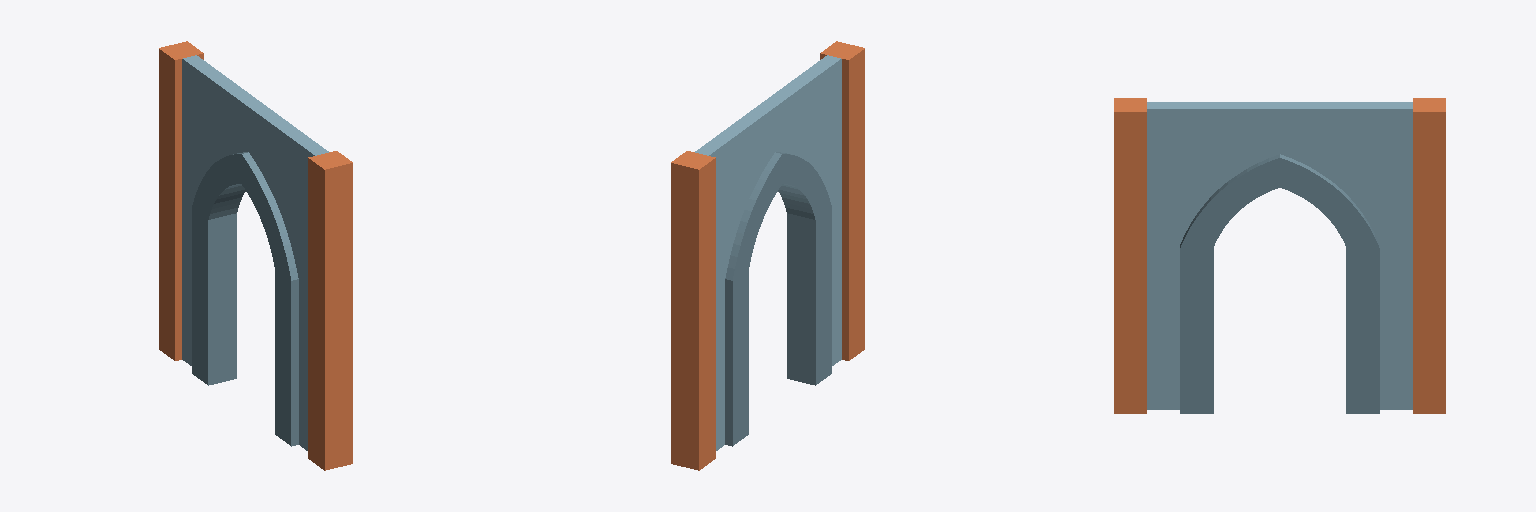
The model's file is wallDoorwayRound.obj.
The picture shows the model from 3 angles: view 1: azimuth 30°, elevation 25°; view 2: azimuth 150°, elevation 25°; view 3: azimuth 270°, elevation 25°; orthographic projection.
Visible parts, largest first — view 1: wallDoorwayRound; view 2: wallDoorwayRound; view 3: wallDoorwayRound.
Part boxes in pixels (x1,y1,x2,y2): wallDoorwayRound: (159,41,352,470); wallDoorwayRound: (671,41,864,470); wallDoorwayRound: (1114,98,1445,413).
Size of the model in its own units: 0.1 by 1 by 1.